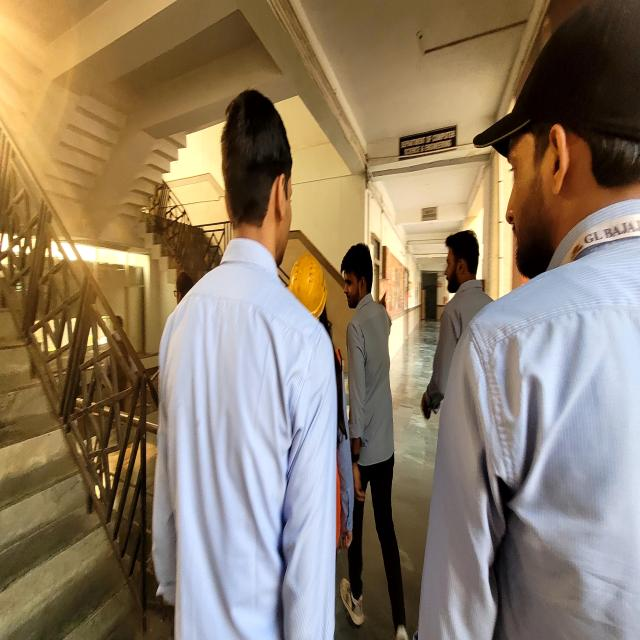unsafe: (416, 9, 640, 640), (154, 88, 338, 640), (339, 240, 412, 640), (421, 223, 494, 418)
